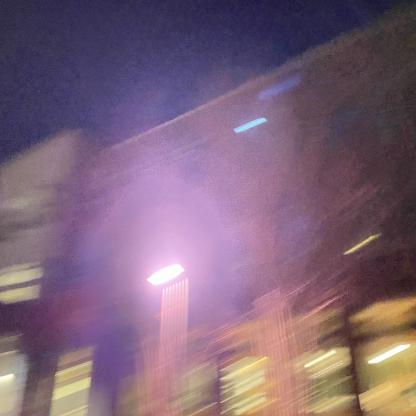eb2: (4, 71, 415, 415)
